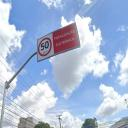speed_limit_50: (38, 37, 52, 57)
